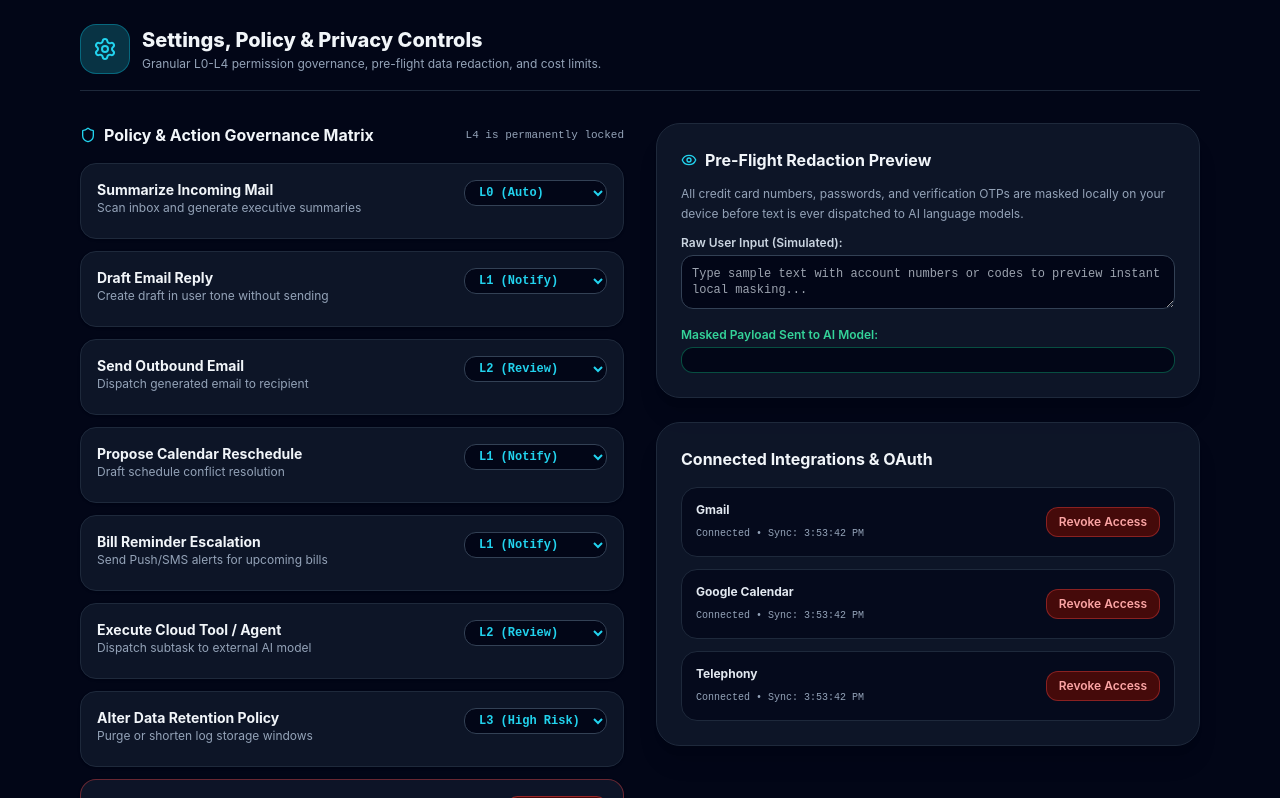
Test: PHASE 11: Settings, Privacy and Cost Controls › Pre-flight redaction masks credit cards and 2FA OTPs
This screenshot has width=1280, height=798.
In the text box with test id "redaction-input": coordinates (928, 282) x1=681 y1=255 x2=1175 y2=309, type "Card 1111-2222-3333-4444 code: 123456"
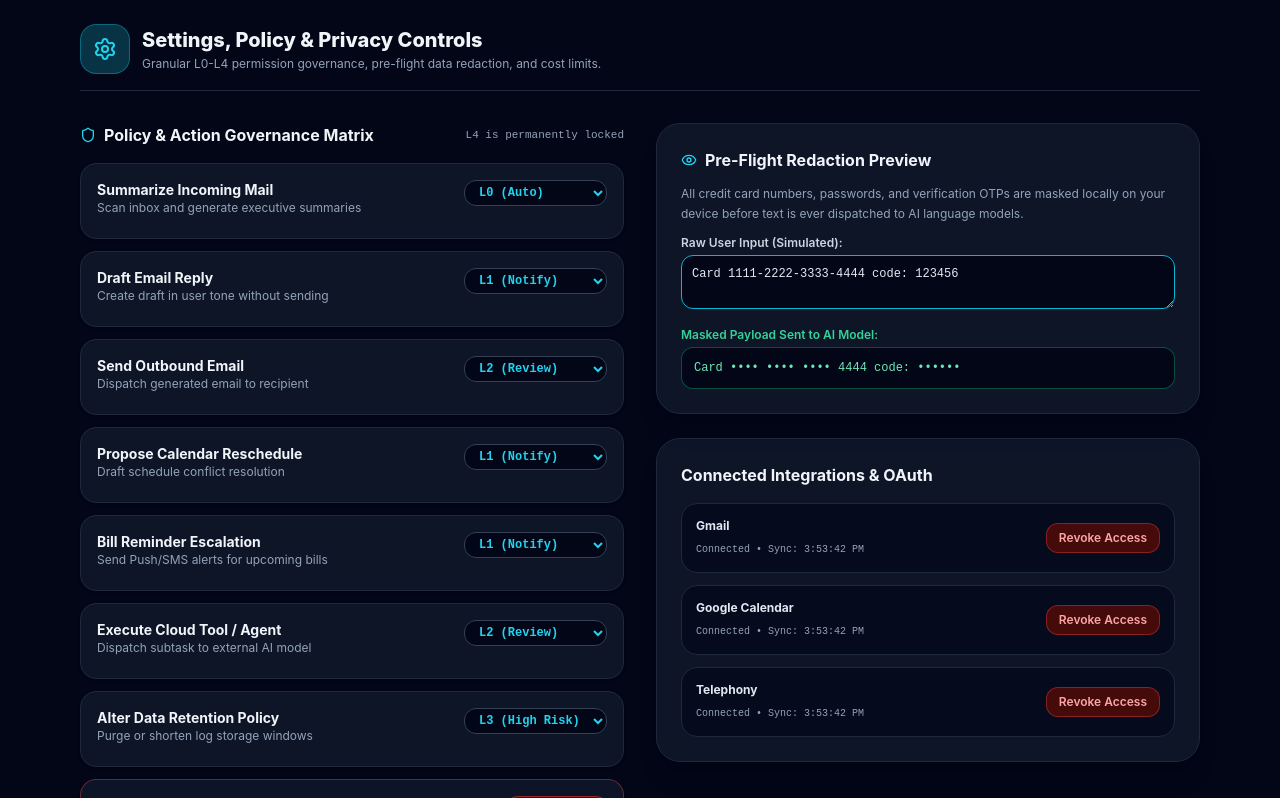
Check: the text with test id "redacted-preview-output" shows "•••• •••• •••• 4444", box x1=694 y1=361 x2=960 y2=375
Check: the text with test id "redacted-preview-output" shows "••••••", box x1=694 y1=361 x2=960 y2=375
